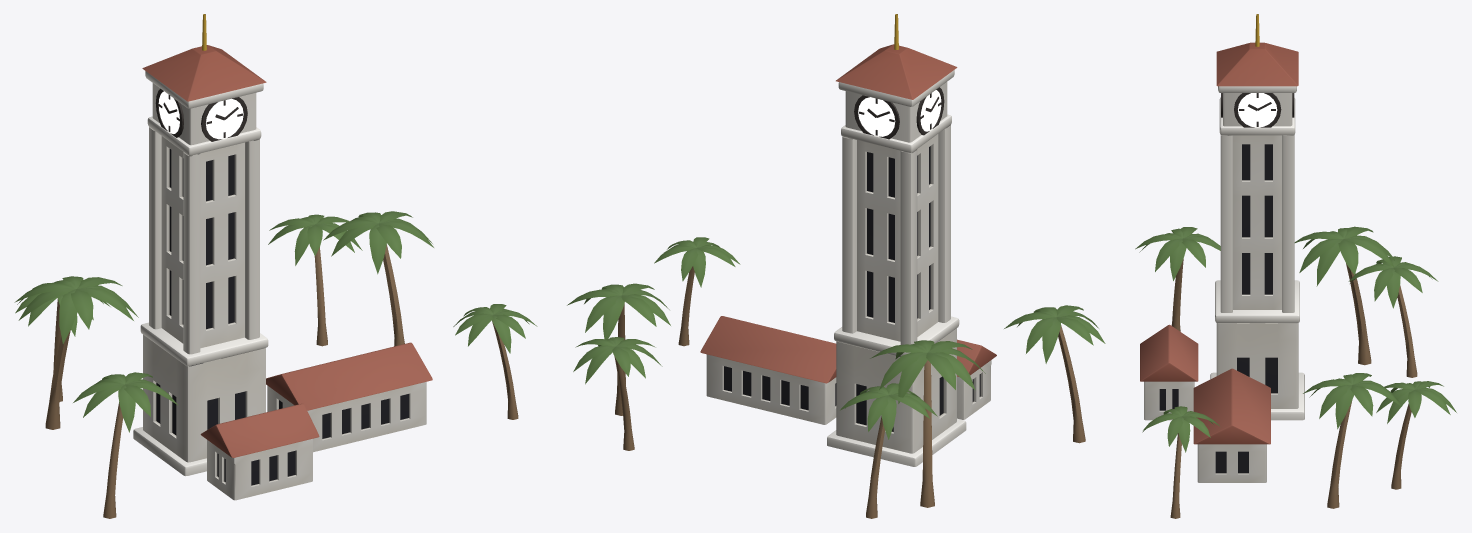
Rendered from landmark_honolulu_solo.glb.
3 renders of one model, left to right at view 1: azimuth 30°, elevation 25°; view 2: azimuth 150°, elevation 25°; view 3: azimuth 270°, elevation 25°, orthographic. The views are drawn at different scales.
Parts seen in each view (by area): view 1: AlohaTower_Stone, Palms, PierShed_Stone, PierShed_Roof, AlohaTower_Roof, AlohaTower_Clocks; view 2: AlohaTower_Stone, Palms, PierShed_Stone, PierShed_Roof, AlohaTower_Roof, AlohaTower_Clocks; view 3: AlohaTower_Stone, Palms, PierShed_Roof, PierShed_Stone, AlohaTower_Roof, AlohaTower_Clocks.
Boxes of the visible parts, x1,y1,x2,y2 form: AlohaTower_Stone: [133, 71, 268, 476]; Palms: [14, 211, 537, 518]; PierShed_Stone: [207, 382, 426, 500]; PierShed_Roof: [200, 342, 432, 457]; AlohaTower_Roof: [142, 14, 266, 101]; AlohaTower_Clocks: [155, 88, 247, 141]; AlohaTower_Stone: [827, 70, 966, 466]; Palms: [567, 237, 1105, 518]; PierShed_Stone: [706, 354, 991, 424]; PierShed_Roof: [700, 316, 996, 383]; AlohaTower_Roof: [836, 14, 957, 99]; AlohaTower_Clocks: [854, 87, 944, 139]; AlohaTower_Stone: [1210, 86, 1304, 420]; Palms: [1135, 226, 1456, 518]; PierShed_Roof: [1140, 324, 1270, 444]; PierShed_Stone: [1144, 381, 1266, 482]; AlohaTower_Roof: [1216, 14, 1298, 86]; AlohaTower_Clocks: [1221, 93, 1294, 127].
Size of the model in its own units: 1.48 by 1.36 by 1.02.
